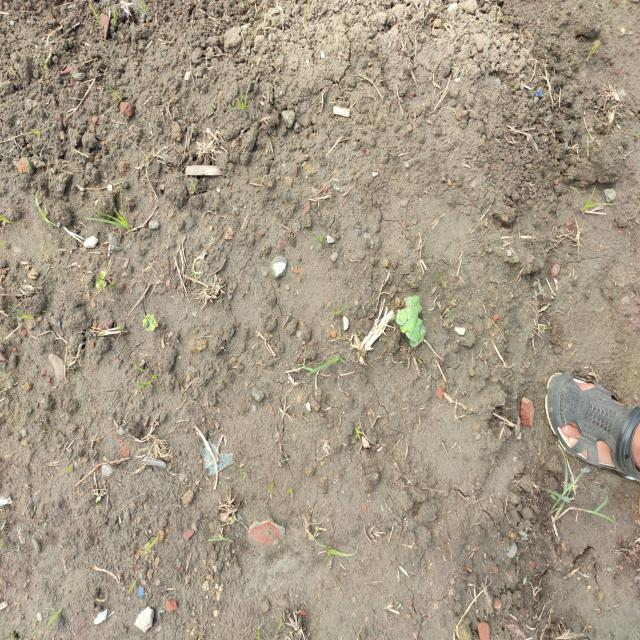seedling: (395, 307, 414, 326), (410, 326, 426, 347), (400, 315, 418, 333), (405, 296, 418, 315), (411, 295, 422, 314), (142, 313, 154, 327), (405, 329, 419, 341), (146, 322, 158, 332), (415, 318, 423, 332)
